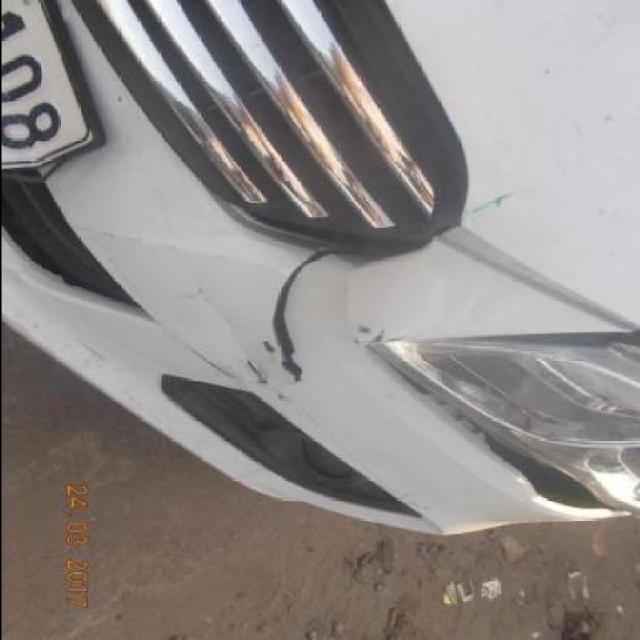damage: (354, 338, 631, 514), (239, 244, 339, 388)
